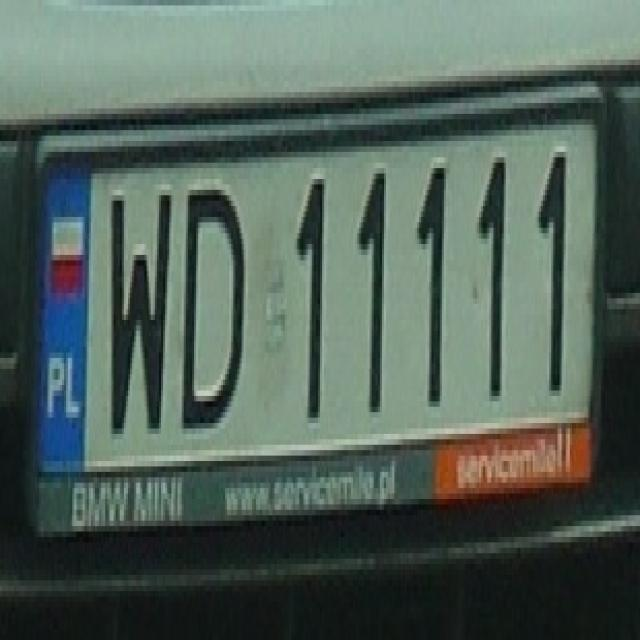pl_license_plate: (37, 114, 593, 466)
